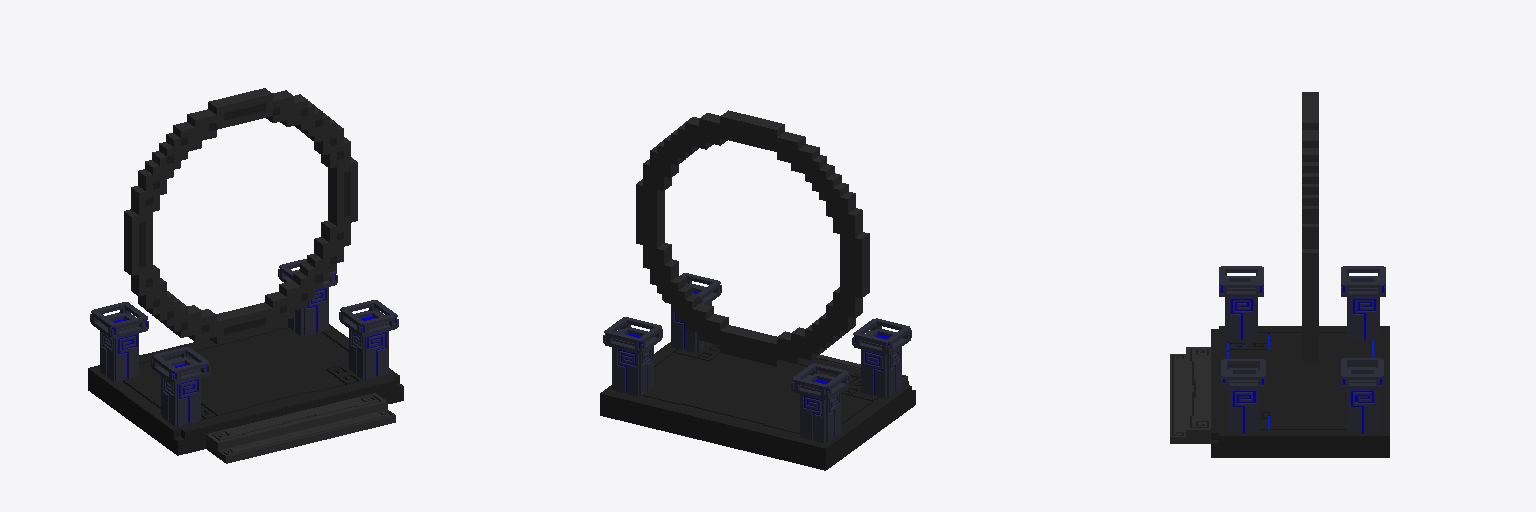
3 views of the same model, side by side, from view 1: azimuth 30°, elevation 25°; view 2: azimuth 150°, elevation 25°; view 3: azimuth 270°, elevation 25° (orthographic).
Visible parts, largest first — view 1: object 1; view 2: object 1; view 3: object 1.
Part boxes in pixels (bbox=[...]): object 1: bbox=[88, 88, 403, 463]; object 1: bbox=[600, 110, 915, 470]; object 1: bbox=[1170, 92, 1389, 457].
Bounding box in the file's own units: 12.8 × 15.9 × 10.8.
Materials: 1 (1 with a texture image).